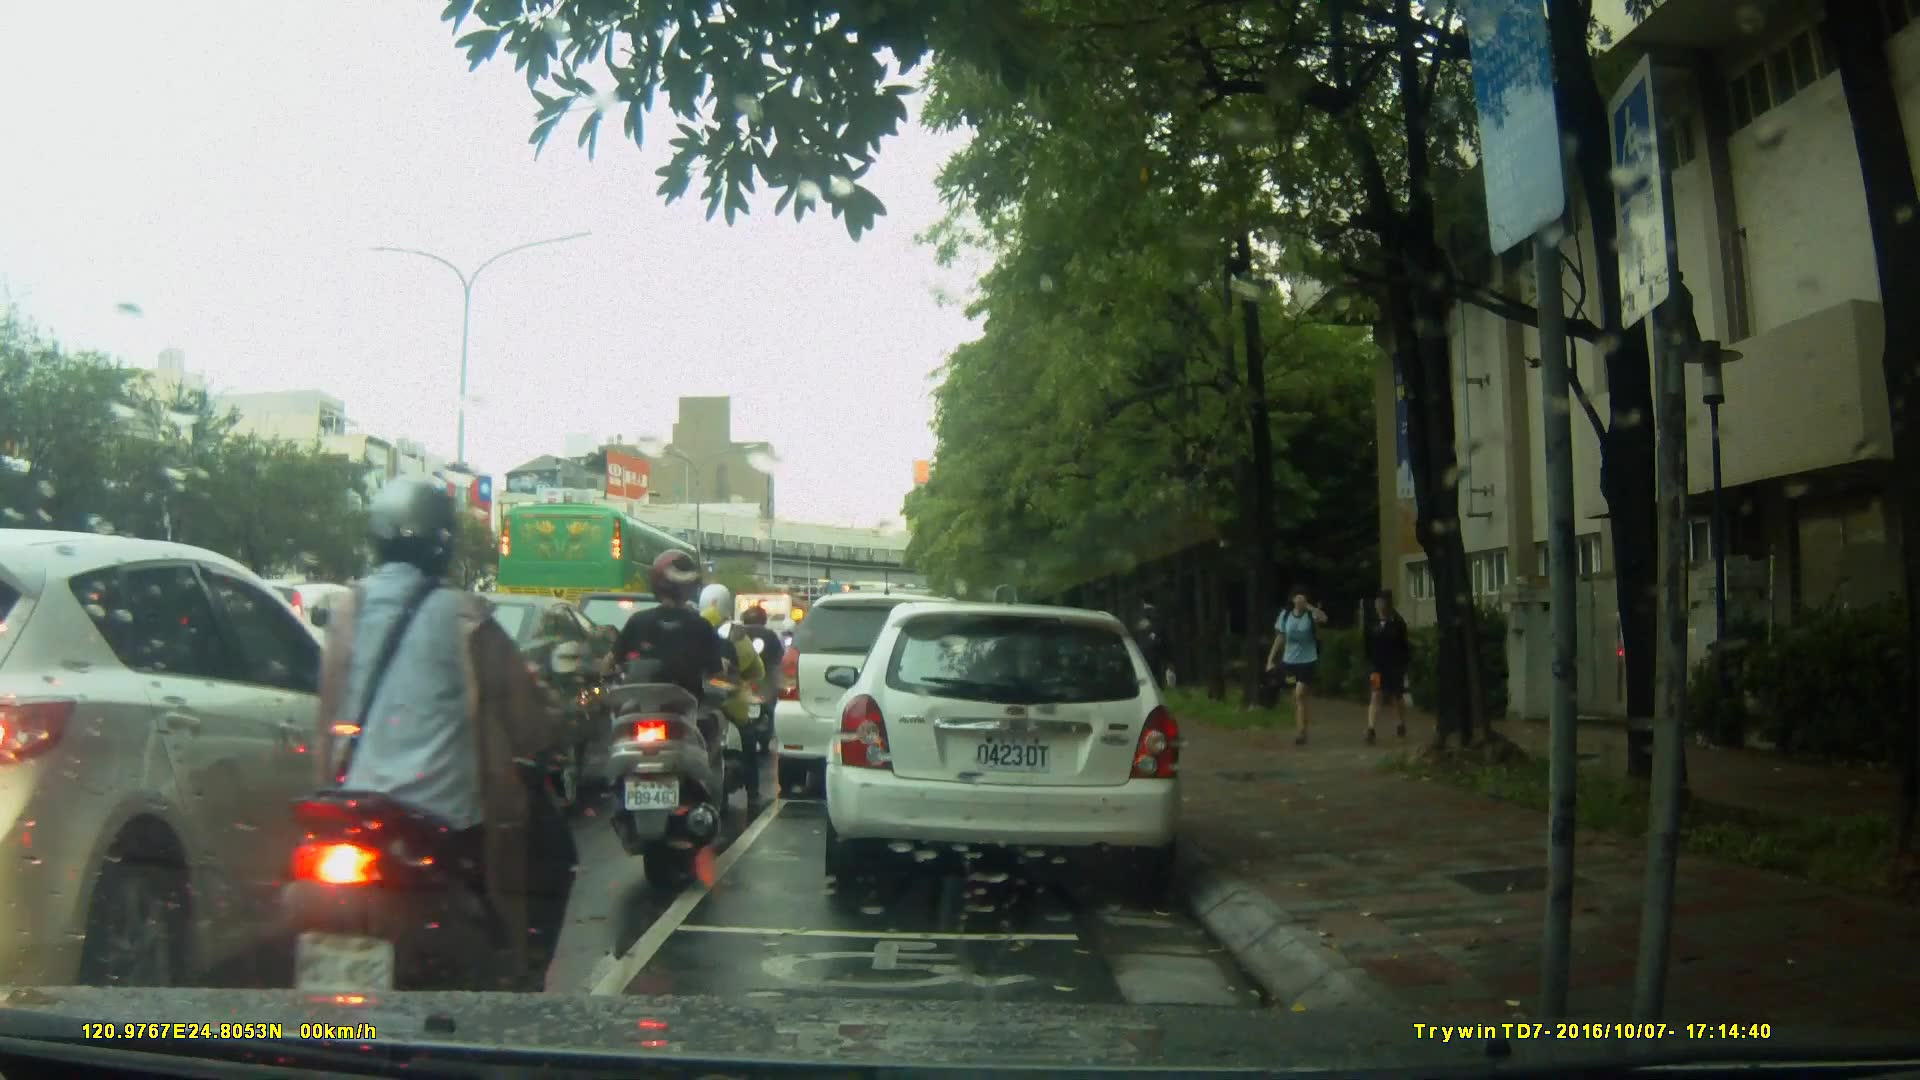pedestrian: (1254, 583, 1347, 751), (1358, 577, 1419, 753), (1126, 595, 1172, 740)
rider: (279, 472, 585, 1042), (607, 552, 733, 878), (684, 579, 771, 804), (724, 604, 794, 776)
vehicle: (1, 529, 445, 987), (831, 592, 1196, 897), (312, 590, 645, 807), (770, 592, 999, 801), (495, 501, 707, 638)
